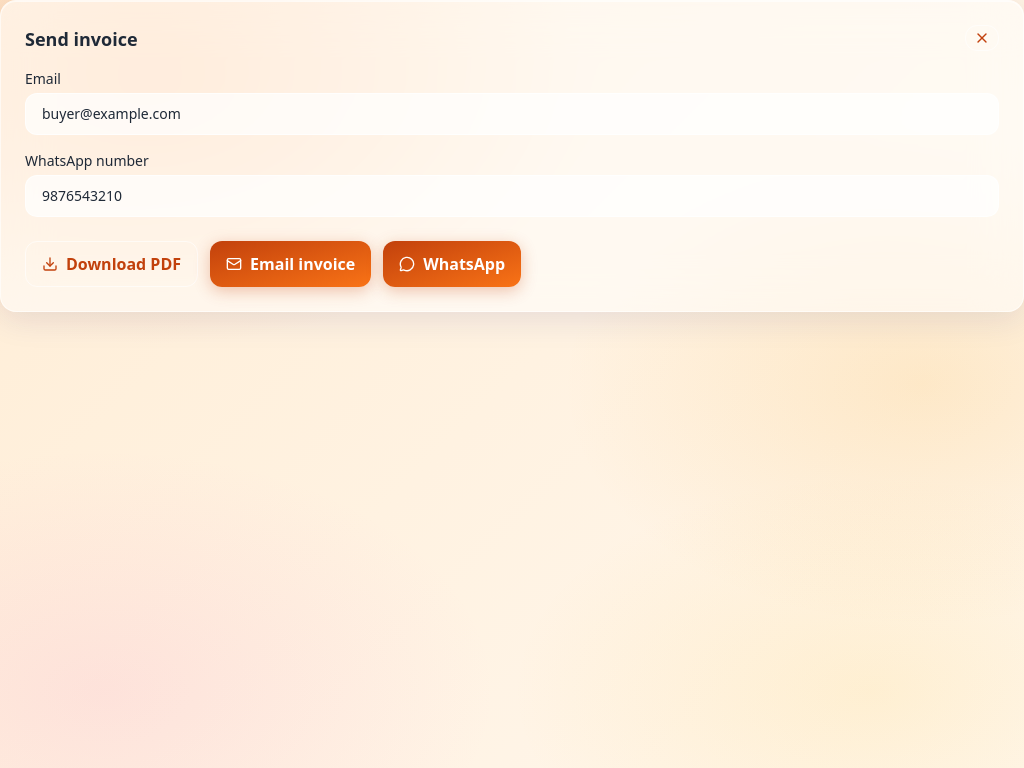
SendInvoiceDialog › posts the PDF and recipient when emailing
Replace the text in the field labelled "Email" with "other@example.com": (512, 114) [25,93,999,135]
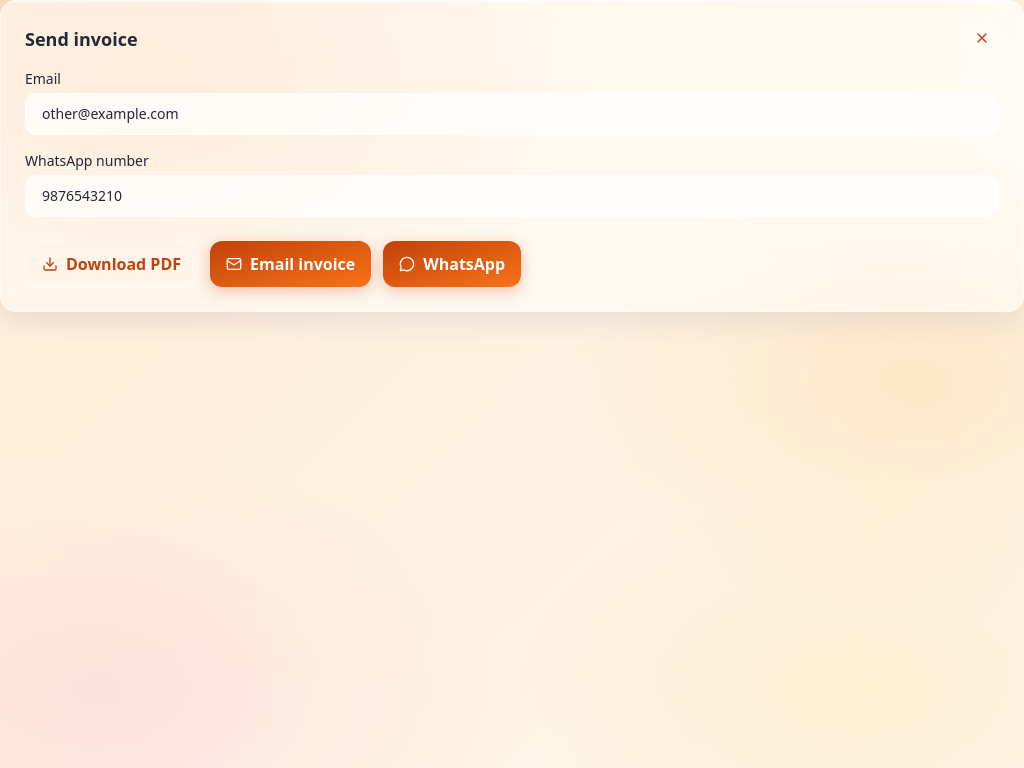
Click the button "Email invoice": (291, 264) [210,241,371,287]
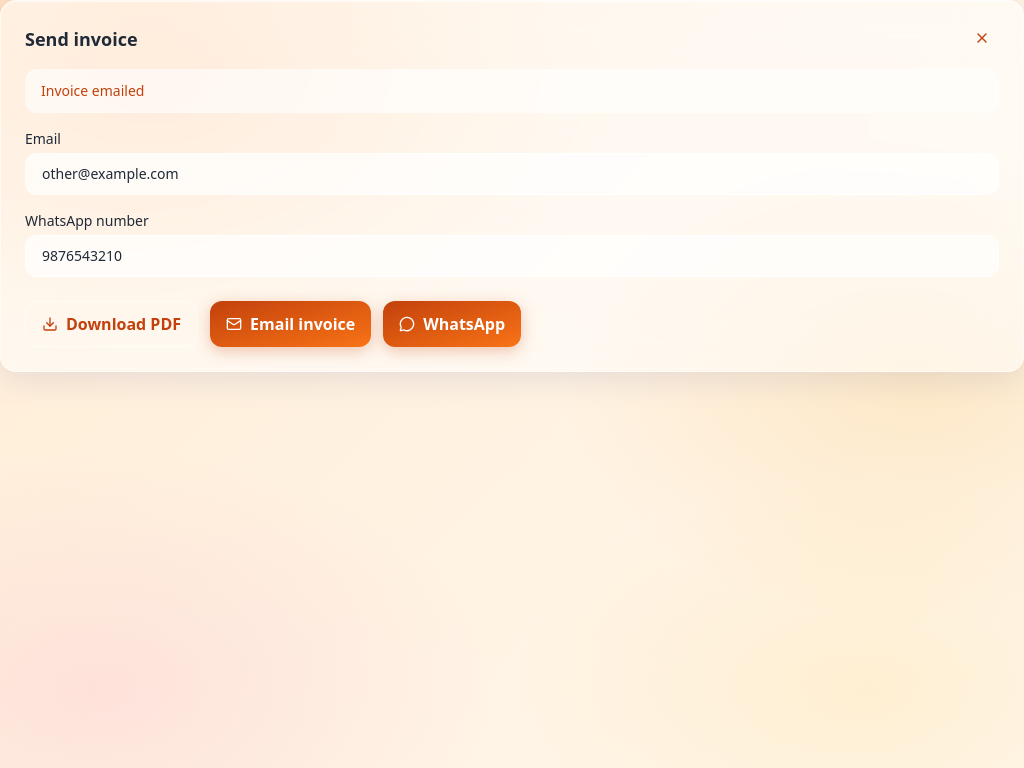
Result: the text "Invoice emailed" is shown at [25,69,999,113]
